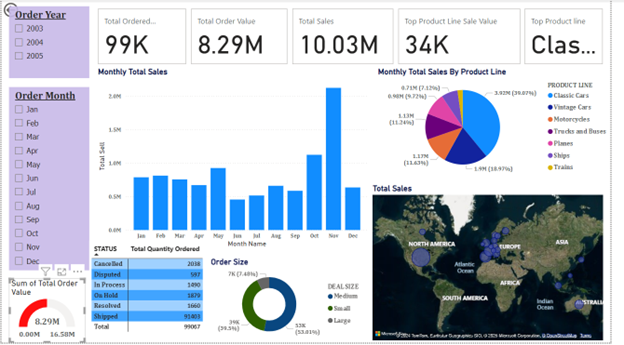

What the dashboard file says about the page in this screenshot:
{"tool":"powerbi","page":{"name":"Task 01","canvas":[1280,720],"ordinal":0},"visuals":[{"type":"actionButton","box":[0,0,100,40],"z":0},{"type":"slicer","fields":{"Values":["sales_data_sample.Order Year"]},"box":[16.5,12.3,168.8,150.9],"z":1000},{"type":"slicer","fields":{"Values":["sales_data_sample.Month Name"]},"box":[16.5,182.5,168.8,385.6],"z":2000},{"type":"cardVisual","fields":{"Data":["sales_data_sample.Total Quantity Ordered"]},"box":[198.1,12.2,195.7,127.2],"z":3000},{"type":"cardVisual","fields":{"Data":["sales_data_sample.Total Sell"]},"box":[606.5,12.3,222.3,127.6],"z":4000},{"type":"cardVisual","fields":{"Data":["Sum(sales_data_sample.Total Order Value)"]},"box":[393.8,12.3,212.7,127.6],"z":5000},{"type":"cardVisual","fields":{"Data":["Sum(sales_data_sample.QUANTITY ORDERED)"]},"box":[828.8,12.3,266.2,127.6],"z":6000},{"type":"cardVisual","fields":{"Data":["Min(sales_data_sample.PRODUCT LINE)"]},"box":[1095,12.3,174.3,127.6],"z":7000},{"type":"clusteredColumnChart","title":"Monthly Total Sales","fields":{"Y":["sales_data_sample.Total Sell"],"Category":["sales_data_sample.Month Name"]},"box":[197.6,140,577.7,385.6],"z":8000},{"type":"pieChart","title":"Monthly Total Sales By Product Line","fields":{"Category":["sales_data_sample.PRODUCT LINE"],"Y":["sales_data_sample.Total Sell"]},"box":[786.3,139.4,494,236],"z":9000},{"type":"map","title":"Total Sales ","fields":{"Category":["sales_data_sample.COUNTRY"],"Size":["sales_data_sample.Total Sell"]},"box":[775.3,385.2,494,335.1],"z":10000},{"type":"donutChart","title":"Order Size","fields":{"Category":["sales_data_sample.DEAL SIZE"],"Y":["sales_data_sample.Total Quantity Ordered"]},"box":[435.3,539.3,339.9,181],"z":11000},{"type":"pivotTable","title":"Monthly Total Sales","fields":{"Values":["sales_data_sample.Total Quantity Ordered"],"Rows":["sales_data_sample.STATUS"]},"box":[184.6,505,250.7,215.2],"z":12000},{"type":"gauge","fields":{"Y":["Sum(sales_data_sample.Total Order Value)"]},"box":[15.9,584.5,160.2,135.7],"z":13000}]}

Visuals, with their boxes in screenshot pixels (x1, y1, x2, y2), scaled from the page's 1280x720 canvas onto the 624x345 screenshot:
actionButton: Rect(0, 0, 49, 19)
slicer - sales_data_sample.Order Year: Rect(8, 6, 90, 78)
slicer - sales_data_sample.Month Name: Rect(8, 87, 90, 272)
cardVisual - sales_data_sample.Total Quantity Ordered: Rect(97, 6, 192, 67)
cardVisual - sales_data_sample.Total Sell: Rect(296, 6, 404, 67)
cardVisual - Sum(sales_data_sample.Total Order Value): Rect(192, 6, 296, 67)
cardVisual - Sum(sales_data_sample.QUANTITY ORDERED): Rect(404, 6, 534, 67)
cardVisual - Min(sales_data_sample.PRODUCT LINE): Rect(534, 6, 619, 67)
"Monthly Total Sales" clusteredColumnChart: Rect(96, 67, 378, 252)
"Monthly Total Sales By Product Line" pieChart: Rect(383, 67, 623, 180)
"Total Sales " map: Rect(378, 185, 619, 344)
"Order Size" donutChart: Rect(212, 258, 378, 344)
"Monthly Total Sales" pivotTable: Rect(90, 242, 212, 344)
gauge - Sum(sales_data_sample.Total Order Value): Rect(8, 280, 86, 344)
